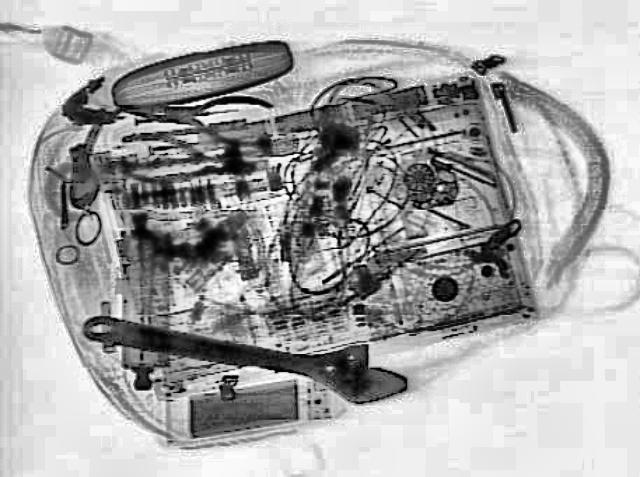Pliers: (109, 80, 274, 146), (109, 129, 255, 189)
Wrench: (71, 292, 419, 410)
